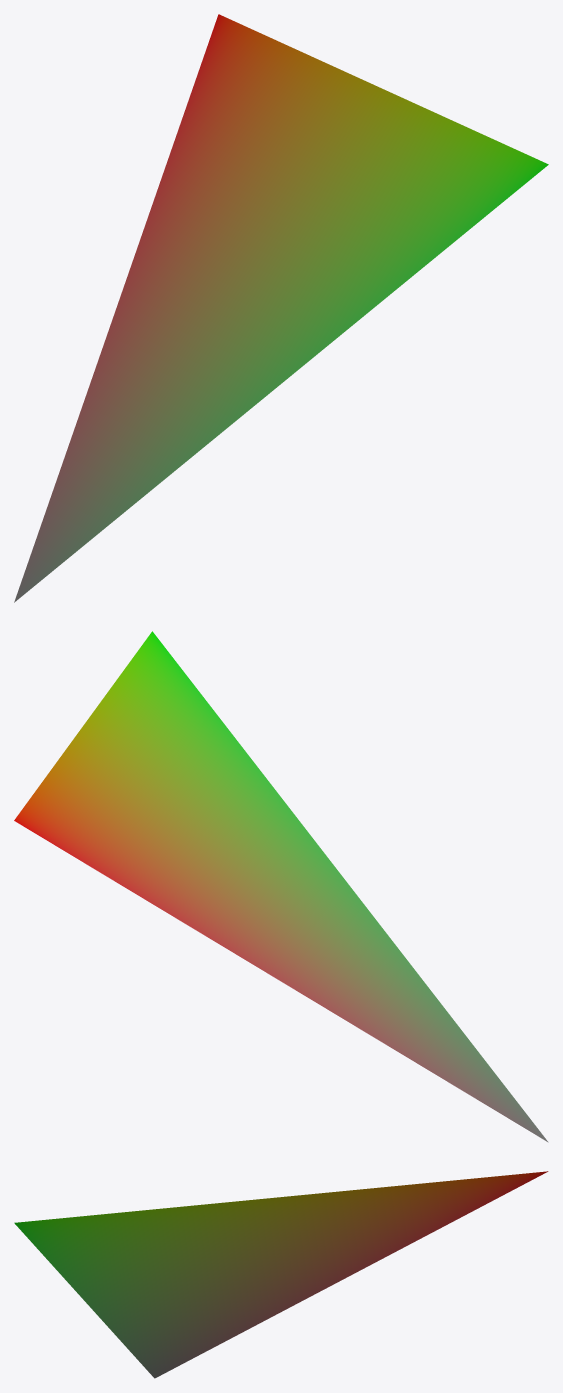
The model's file is start_border_patch_0.obj.
The picture shows the model from 3 angles, top to bottom: view 1: azimuth 30°, elevation 25°; view 2: azimuth 150°, elevation 25°; view 3: azimuth 270°, elevation 25°; orthographic projection. The views are drawn at different scales.
Size of the model in its own units: 0.9272 by 0.691 by 0.8046.
